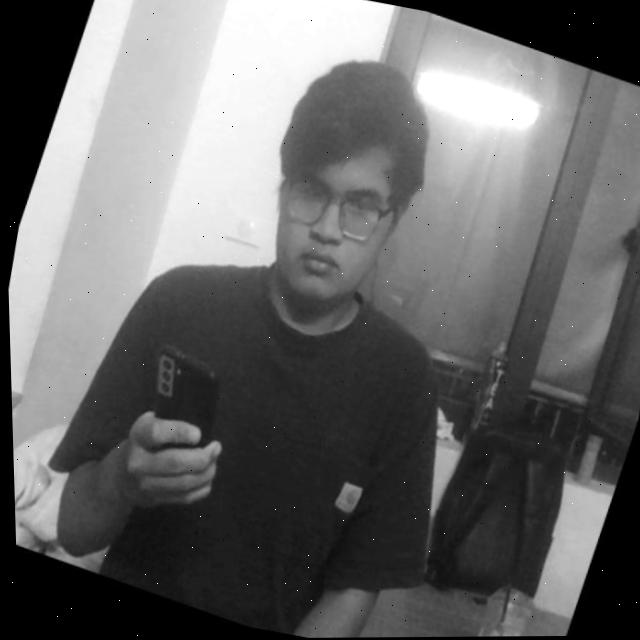phone: (90, 317, 254, 517)
